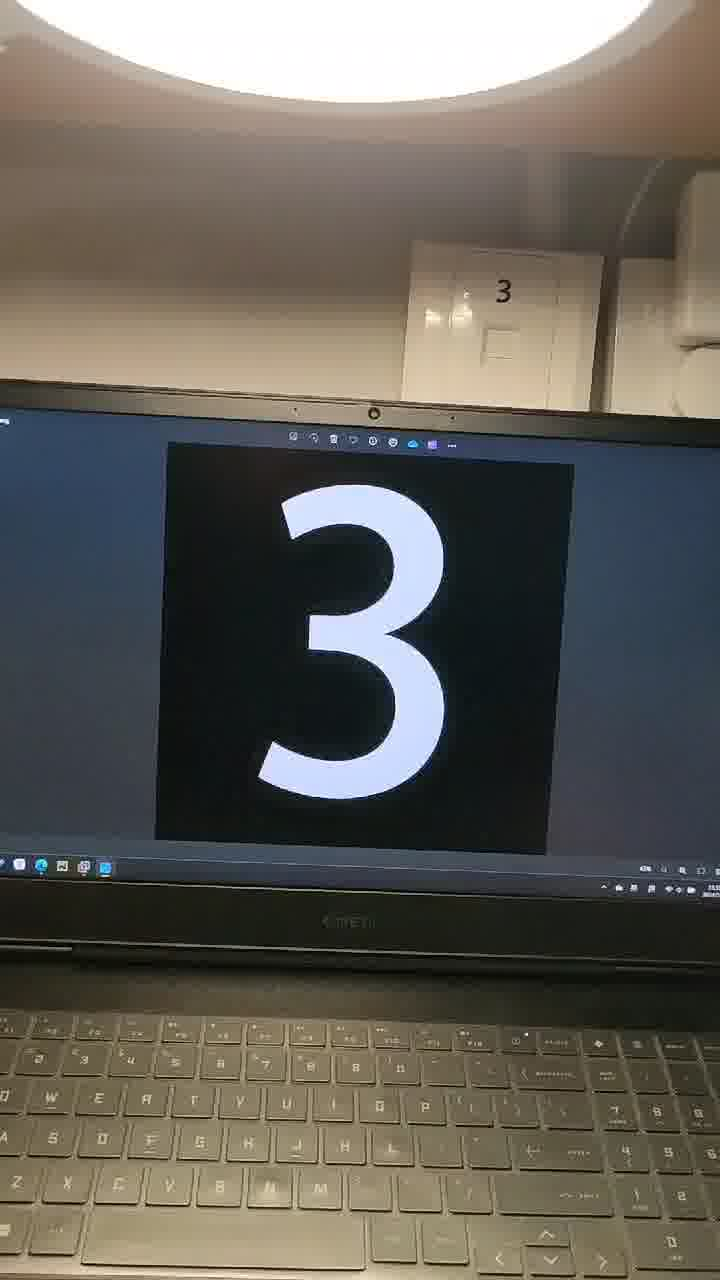three: (242, 447, 492, 838)
